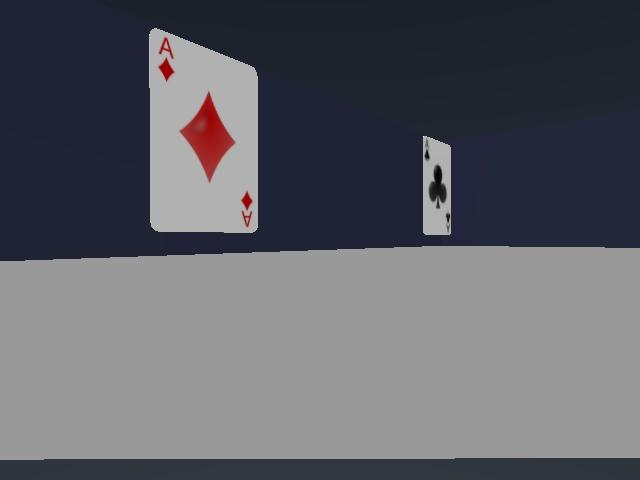club: (422, 137, 450, 234)
diamond: (149, 29, 258, 232)
